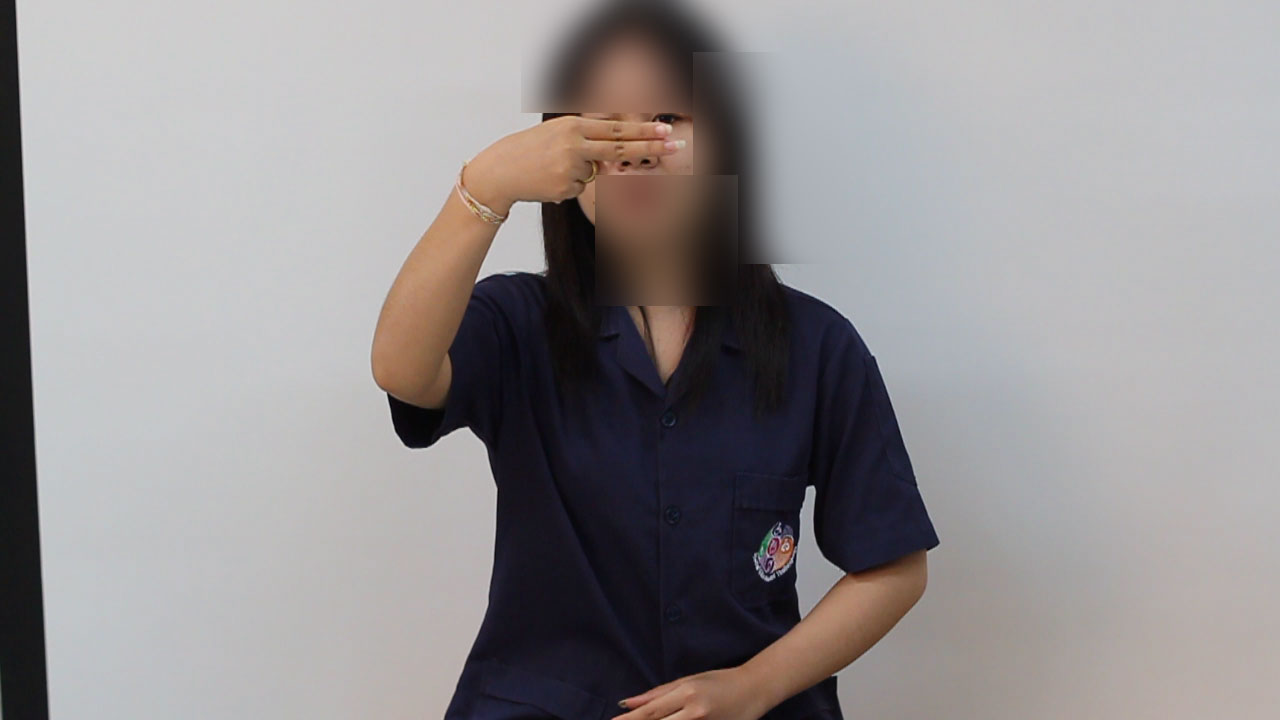hor: (432, 107, 697, 231)
